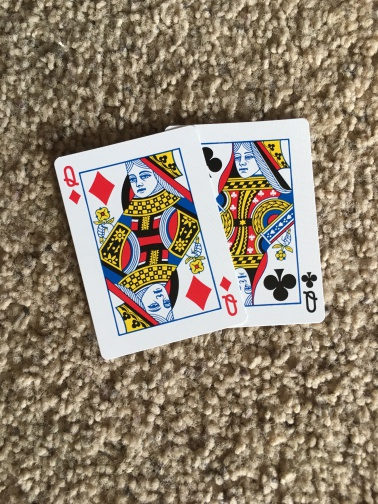queen: (53, 130, 242, 352), (239, 122, 328, 326)
